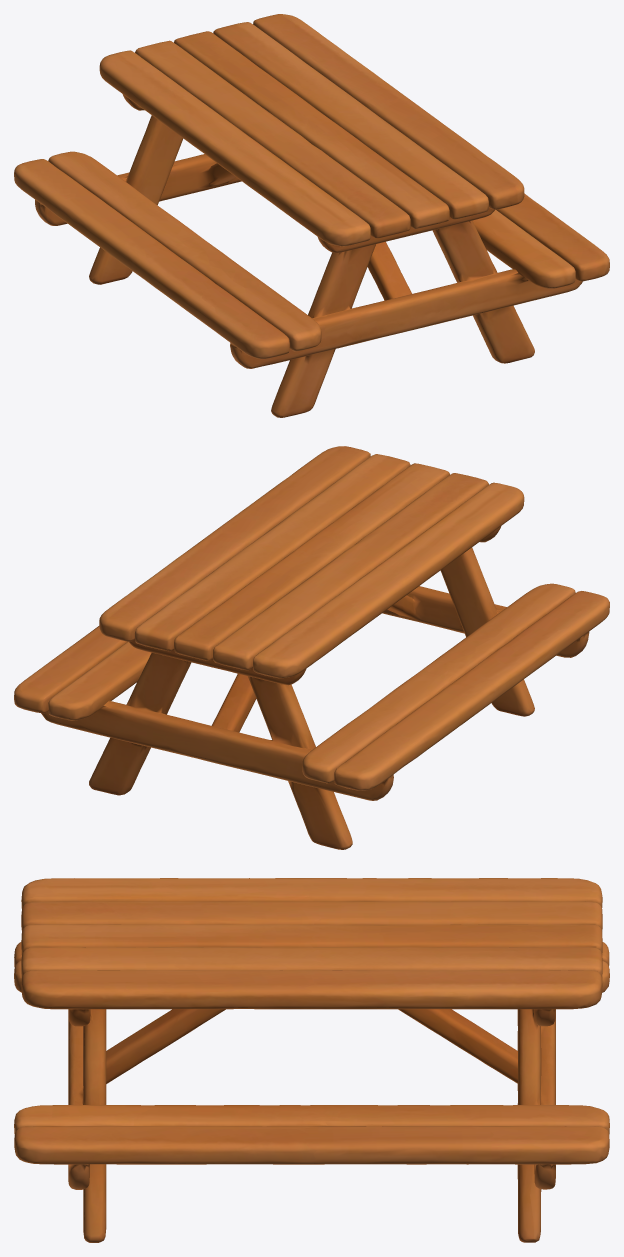
Rendered from 34-mesa-piquenique.glb.
3 views of the same model, one above another, from view 1: azimuth 30°, elevation 25°; view 2: azimuth 150°, elevation 25°; view 3: azimuth 270°, elevation 25° (orthographic). The views are drawn at different scales.
Visible parts, largest first — view 1: tripo_node_d2f7a43d-6e4f-45ef-bbb9-e0ab55a40b80; view 2: tripo_node_d2f7a43d-6e4f-45ef-bbb9-e0ab55a40b80; view 3: tripo_node_d2f7a43d-6e4f-45ef-bbb9-e0ab55a40b80.
Boxes of the visible parts, x1,y1,x2,y2 form: tripo_node_d2f7a43d-6e4f-45ef-bbb9-e0ab55a40b80: [14, 14, 609, 417]; tripo_node_d2f7a43d-6e4f-45ef-bbb9-e0ab55a40b80: [14, 446, 609, 849]; tripo_node_d2f7a43d-6e4f-45ef-bbb9-e0ab55a40b80: [14, 878, 609, 1242].
Size of the model in its own units: 0.839 by 0.4384 by 1.
1 material, 1 textured.
